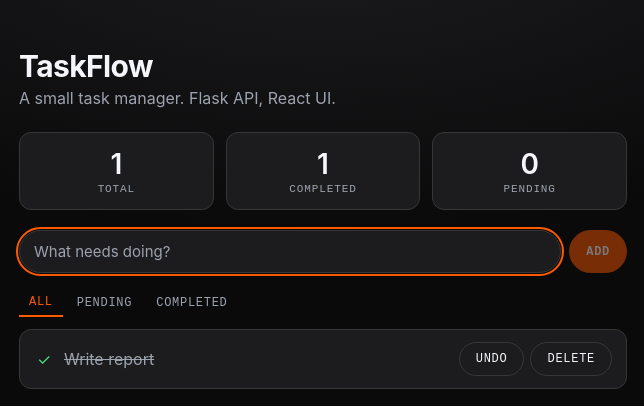
Test: App › undoes a completed task via PATCH and shows Complete again
Expected: the text "Write report" is shown, [64,349,154,369]
Click the button "Undo". click: (492, 359)
box: [459,342,524,376]
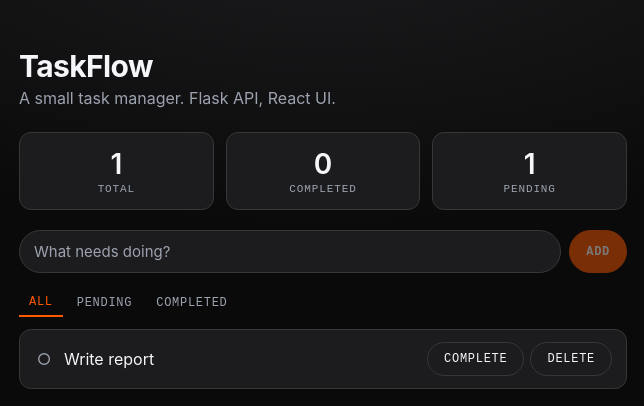
Now the button "Complete" is shown, box [427,342,524,376]
